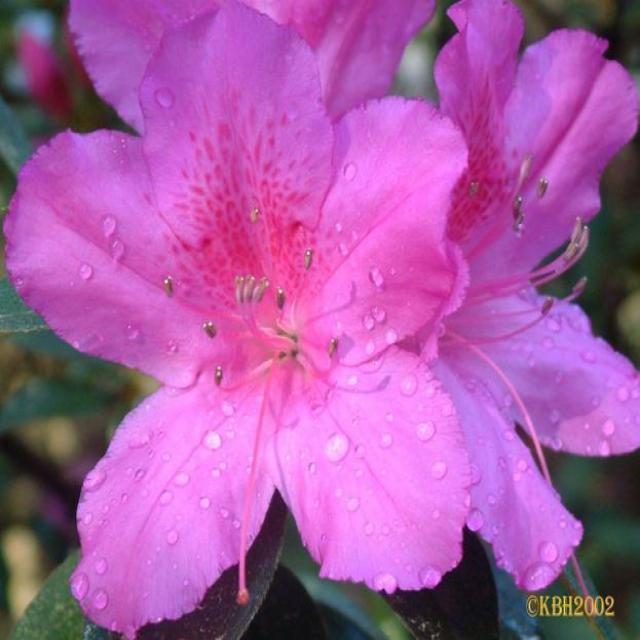azalea: (22, 28, 472, 584)
